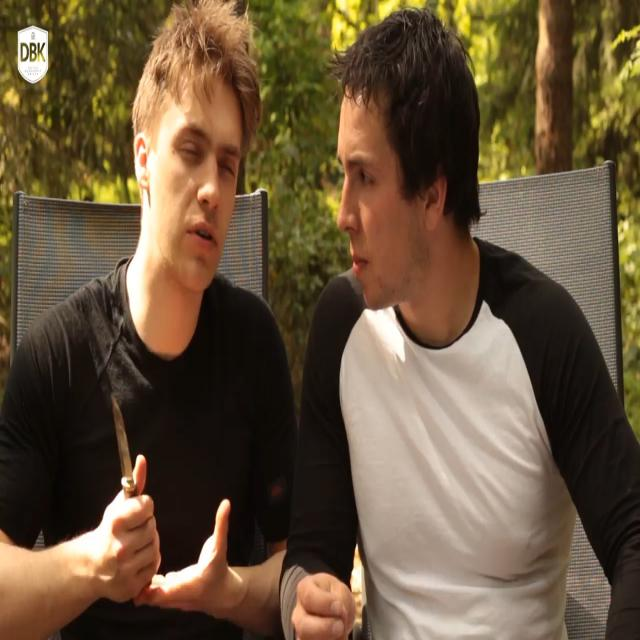knife: (110, 390, 138, 497)
